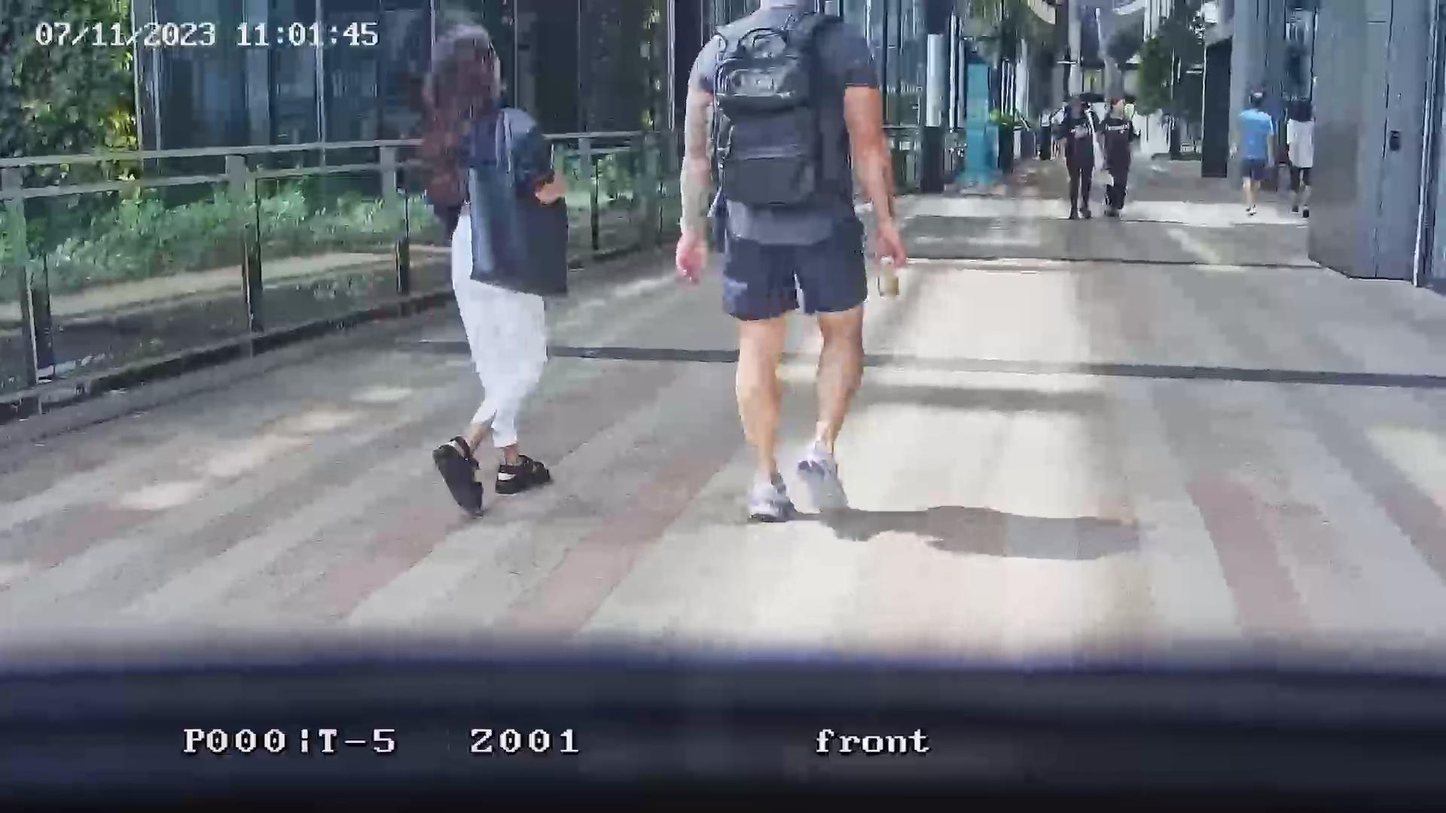person: (674, 2, 908, 523), (407, 20, 568, 522), (1051, 93, 1098, 220), (1236, 85, 1274, 216), (1100, 93, 1139, 215), (1285, 99, 1316, 215)
